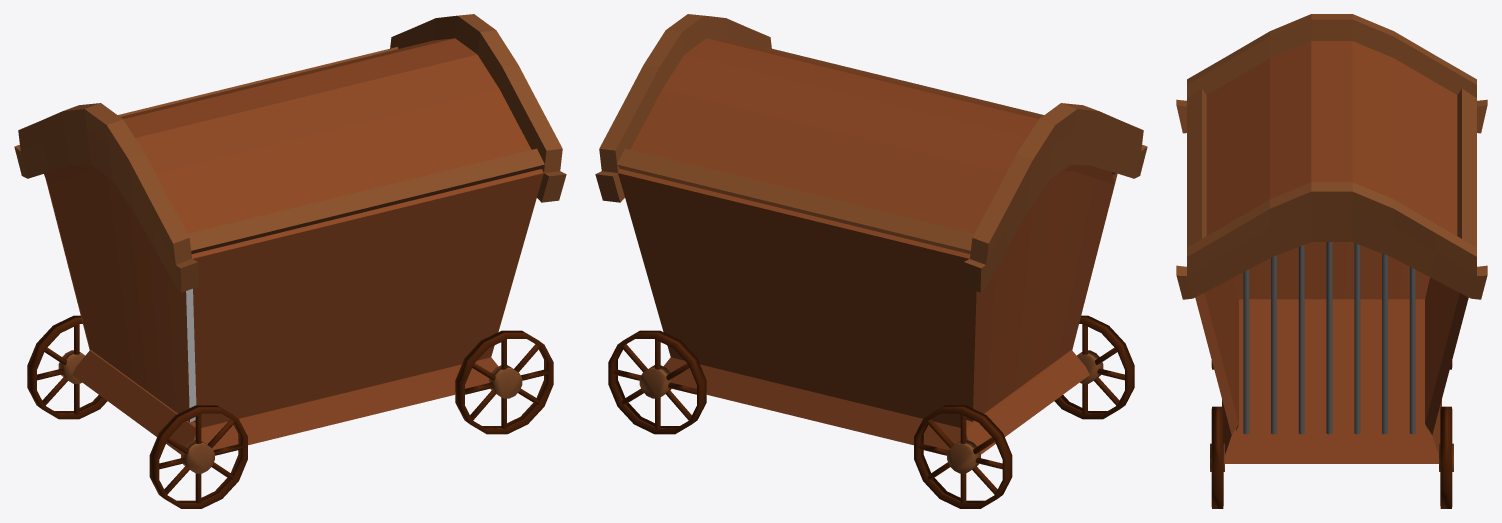
Rendered from Charrette.fbx.
The picture shows the model from 3 angles, left to right: view 1: azimuth 30°, elevation 25°; view 2: azimuth 150°, elevation 25°; view 3: azimuth 270°, elevation 25°; orthographic projection. The views are drawn at different scales.
Visible parts, largest first — view 1: Cube.021, Cube.019, Cube.018, Cube.002, Cube.020, Cube, Cube.005, Cube.017, Cube.038, Cube.001, Cube.009, Cube.008 (+18 smaller); view 2: Cube.022, Cube.015, Cube.016, Cube.002, Cube.014, Cube, Cube.006, Cube.017, Cube.039, Cube.001, Cube.011, Cube.012 (+18 smaller); view 3: Cube.001, Cube.002, Cube.017, Cube.015, Cube.016, Cube.018, Cube.019, Cube.032, Cube.031, Cube.033, Cube.035, Cube.034 (+28 smaller).
Part boxes in pixels (x1=…): Cube.021: x1=193, y1=197, x2=536, y2=427; Cube.019: x1=155, y1=89, x2=521, y2=214; Cube.018: x1=135, y1=54, x2=499, y2=172; Cube.002: x1=14, y1=103, x2=198, y2=292; Cube.020: x1=178, y1=131, x2=543, y2=258; Cube: x1=44, y1=165, x2=543, y2=349; Cube.005: x1=188, y1=148, x2=544, y2=253; Cube.017: x1=123, y1=38, x2=476, y2=137; Cube.038: x1=194, y1=357, x2=498, y2=450; Cube.001: x1=390, y1=14, x2=566, y2=202; Cube.009: x1=87, y1=172, x2=132, y2=380; Cube.008: x1=68, y1=172, x2=118, y2=369; Cube.022: x1=625, y1=197, x2=968, y2=427; Cube.015: x1=640, y1=89, x2=1006, y2=214; Cube.016: x1=662, y1=54, x2=1026, y2=172; Cube.002: x1=963, y1=103, x2=1147, y2=292; Cube.014: x1=618, y1=131, x2=983, y2=258; Cube: x1=618, y1=165, x2=1117, y2=349; Cube.006: x1=617, y1=148, x2=973, y2=253; Cube.017: x1=685, y1=38, x2=1038, y2=137; Cube.039: x1=663, y1=357, x2=967, y2=450; Cube.001: x1=595, y1=14, x2=771, y2=202; Cube.011: x1=1029, y1=171, x2=1074, y2=379; Cube.012: x1=1044, y1=172, x2=1094, y2=369; Cube.001: x1=1176, y1=182, x2=1487, y2=299; Cube.002: x1=1176, y1=14, x2=1487, y2=133; Cube.017: x1=1311, y1=41, x2=1352, y2=182; Cube.015: x1=1394, y1=58, x2=1435, y2=223; Cube.016: x1=1352, y1=41, x2=1393, y2=199; Cube.018: x1=1270, y1=41, x2=1311, y2=199; Cube.019: x1=1228, y1=58, x2=1269, y2=223; Cube.032: x1=1316, y1=299, x2=1347, y2=463; Cube.031: x1=1285, y1=299, x2=1318, y2=463; Cube.033: x1=1345, y1=299, x2=1378, y2=463; Cube.035: x1=1398, y1=299, x2=1438, y2=463; Cube.034: x1=1372, y1=299, x2=1410, y2=463.
Size of the model in its own units: 795 by 682 by 576.
